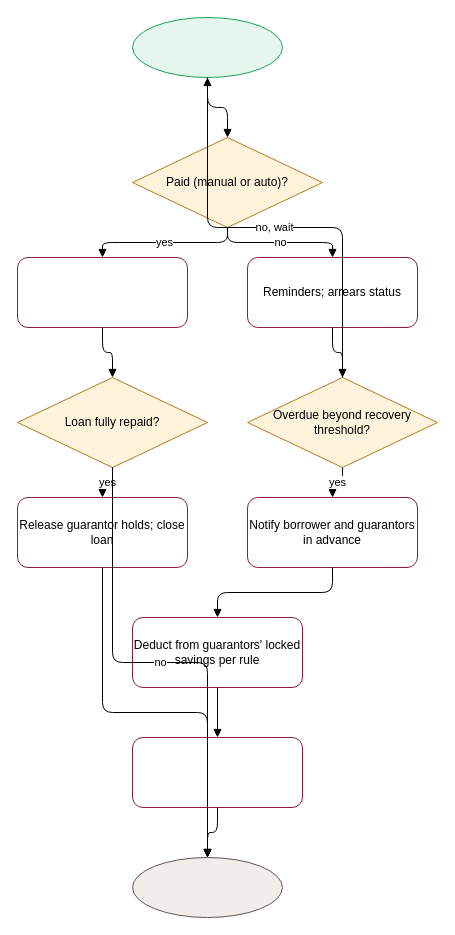
Some shapes in this 455 by 935 pixel diagram are drawn without their labels. Each missing label, with the centre of its shape:
Apply to loan; update records; notify: pixel 217 772
Done: pixel 207 887
Instalment due: pixel 207 47
Post repayment: principal, interest, penalty: pixel 102 292
